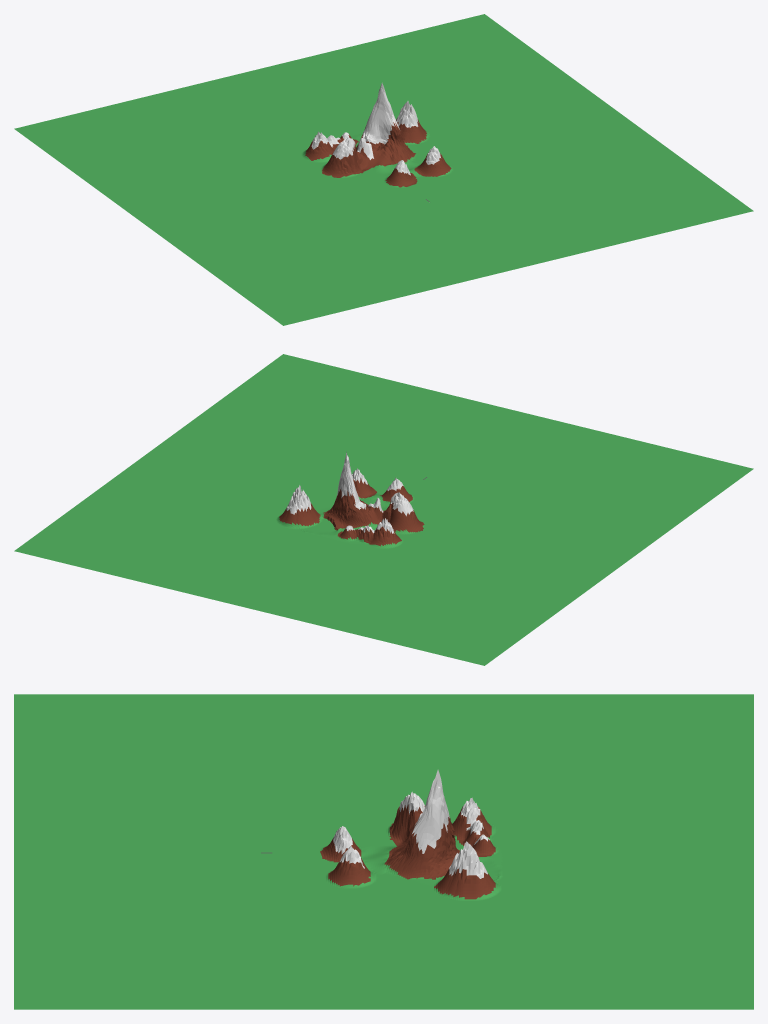
File: mountains.glb
The picture shows the model from 3 angles, top to bottom: view 1: azimuth 30°, elevation 25°; view 2: azimuth 150°, elevation 25°; view 3: azimuth 270°, elevation 25°; orthographic projection. The views are drawn at different scales.
Parts seen in each view (by area): view 1: Plane; view 2: Plane; view 3: Plane.
Part boxes in pixels (box(x1,y1,x2,y2)): Plane: box(14, 14, 753, 325); Plane: box(14, 354, 753, 665); Plane: box(14, 694, 753, 1009).
Bounding box in the file's own units: 121 × 17.11 × 120.
